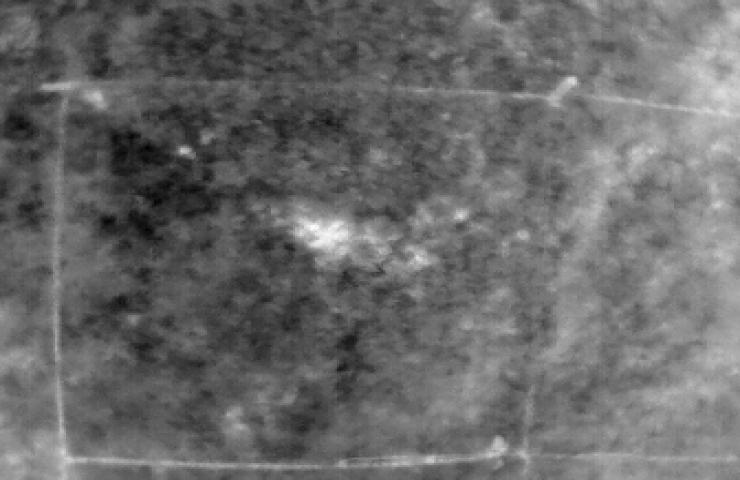landmines: (288, 208, 358, 267)
